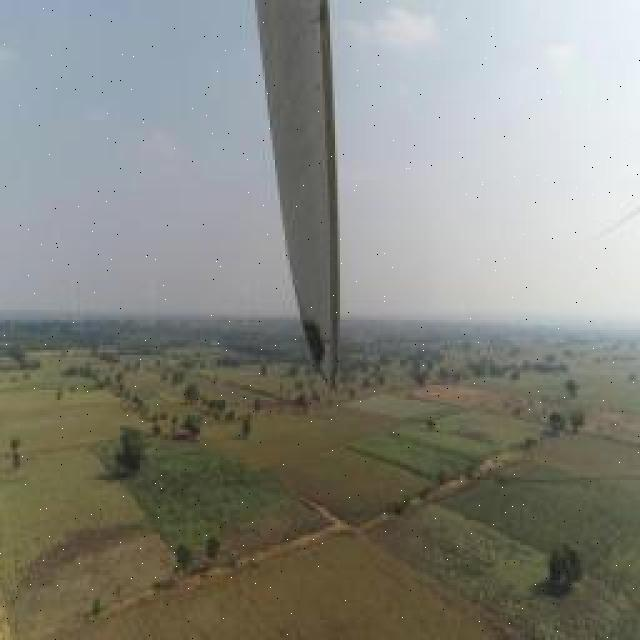Dirt: (256, 0, 328, 100)
Oil LEAKAGE: (302, 320, 330, 378)
